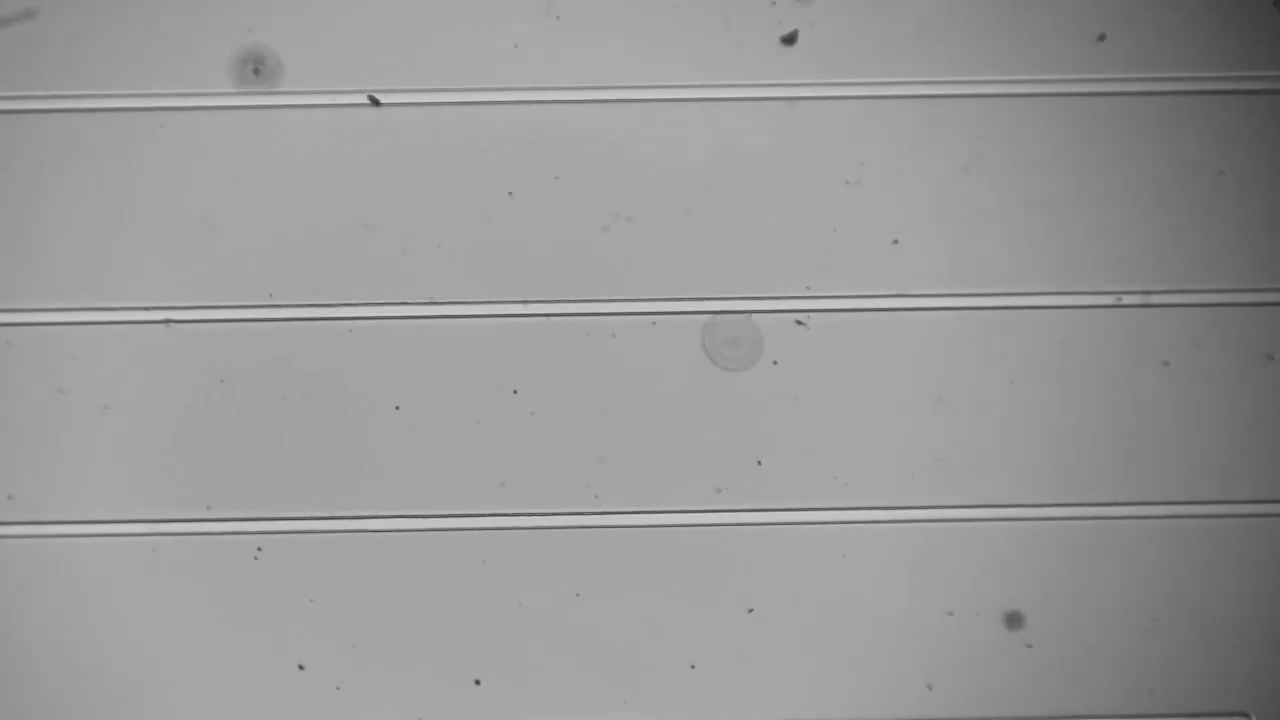stains_enbedded: (359, 84, 389, 112)
